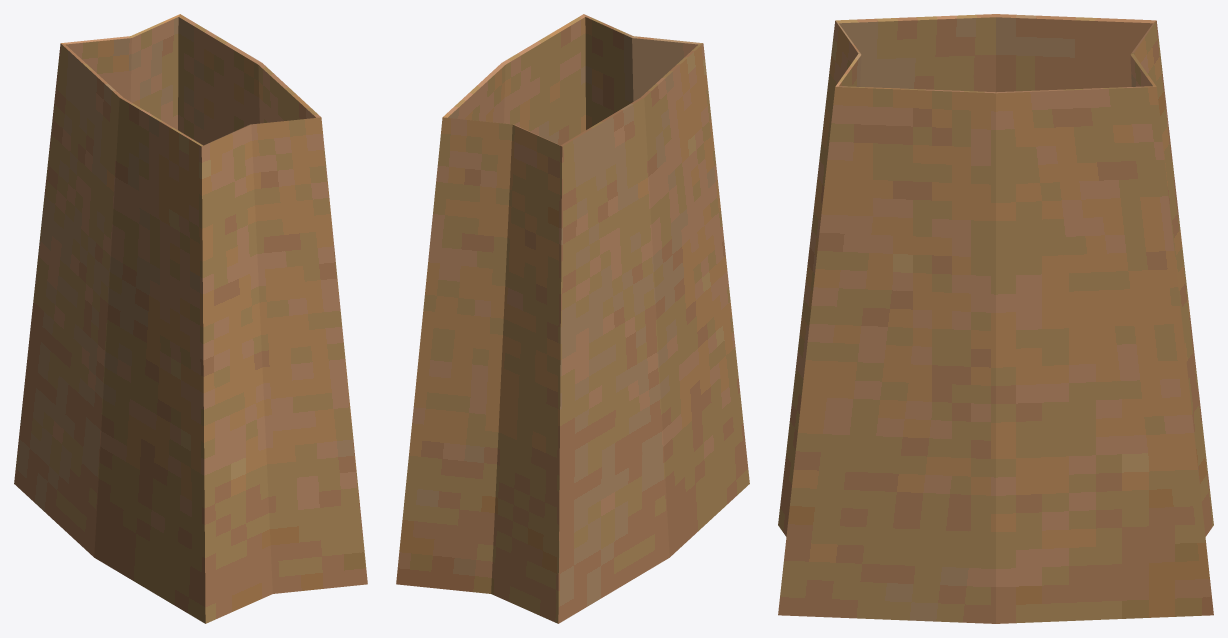
File: paperBag.glb
3 renders of one model, left to right at view 1: azimuth 30°, elevation 25°; view 2: azimuth 150°, elevation 25°; view 3: azimuth 270°, elevation 25°, orthographic. The views are drawn at different scales.
Visible parts, largest first — view 1: paperBag; view 2: paperBag; view 3: paperBag.
Part boxes in pixels (x1=…): paperBag: x1=14, y1=14, x2=367, y2=623; paperBag: x1=396, y1=14, x2=749, y2=623; paperBag: x1=778, y1=14, x2=1213, y2=623.
Size of the model in its own units: 0.1468 by 0.329 by 0.2516.
1 material, 1 textured.
